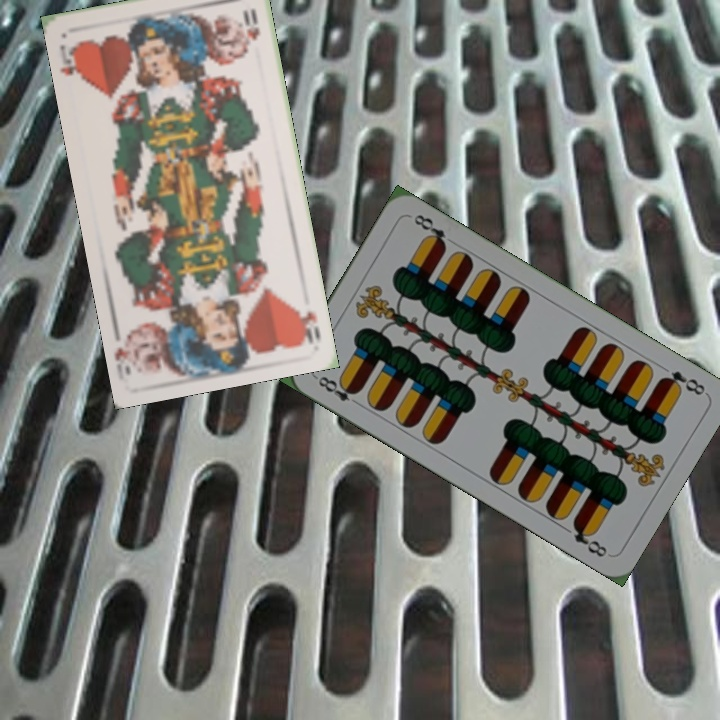E8: (310, 371, 363, 409), (656, 367, 708, 398)
HO: (55, 39, 87, 84), (292, 305, 323, 347)
